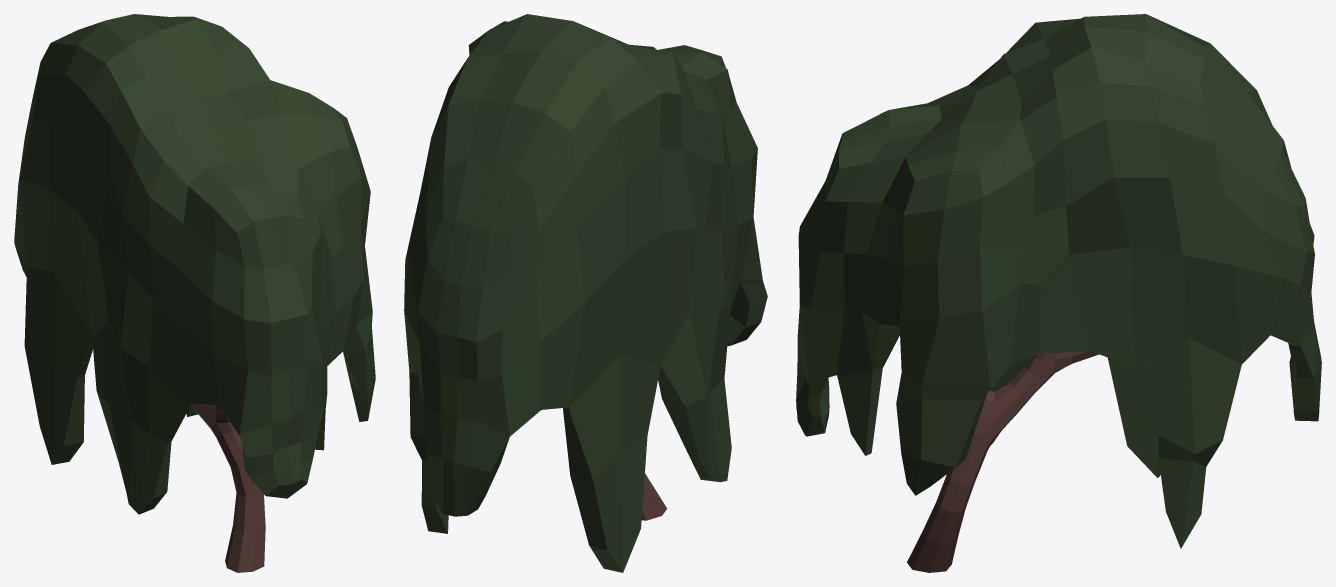
Rendered from Willow_1.glb.
3 views of the same model, side by side, from view 1: azimuth 30°, elevation 25°; view 2: azimuth 150°, elevation 25°; view 3: azimuth 270°, elevation 25° (orthographic). The views are drawn at different scales.
Visible parts, largest first — view 1: Willow_1; view 2: Willow_1; view 3: Willow_1.
Boxes of the visible parts, x1,y1,x2,y2 form: Willow_1: [14, 14, 375, 572]; Willow_1: [404, 14, 767, 572]; Willow_1: [796, 14, 1321, 572].
Size of the model in its own units: 1.45 by 2.85 by 2.55.
